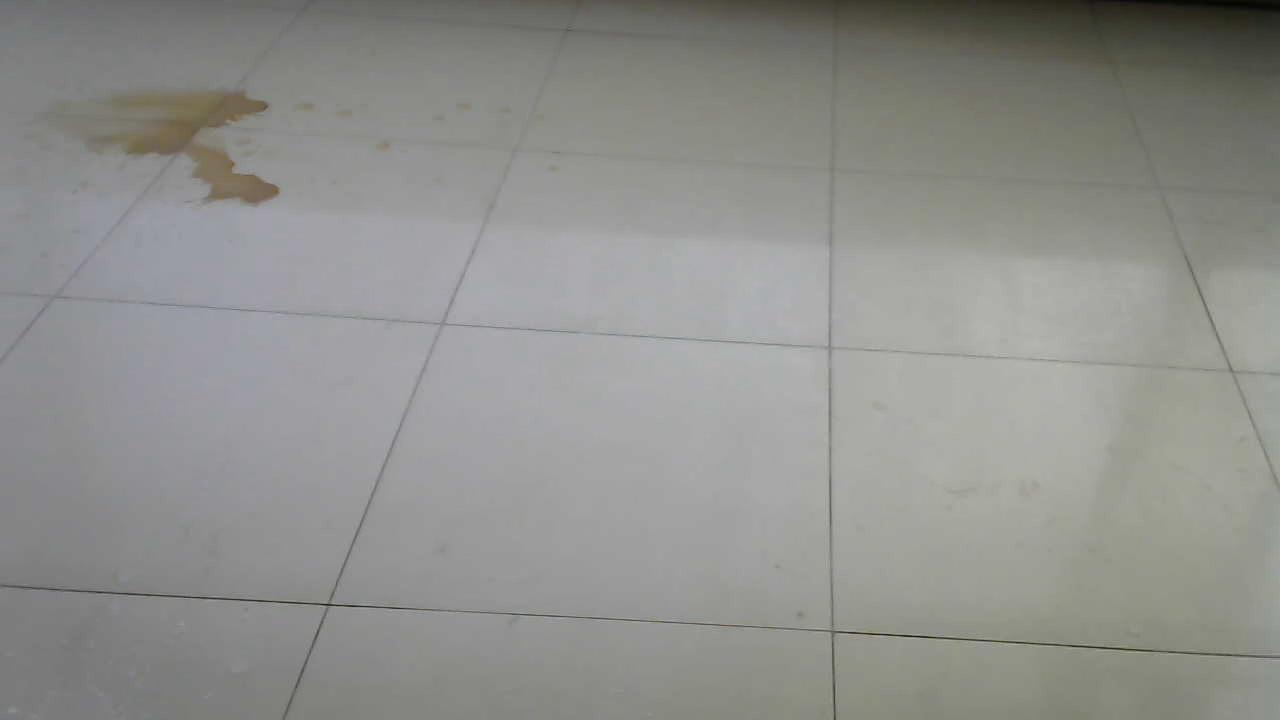dirty_floor: (35, 83, 321, 211)
